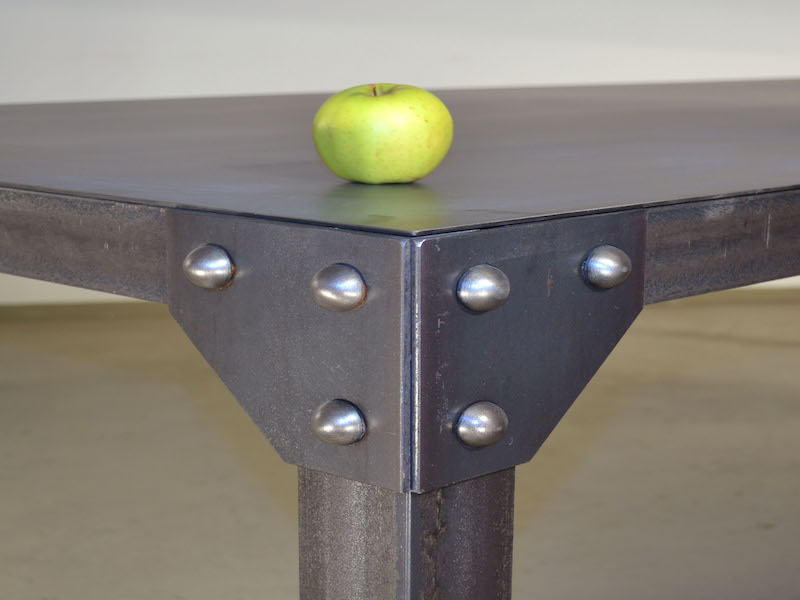rivet: (451, 260, 515, 316), (450, 395, 512, 451), (307, 262, 370, 317), (309, 395, 370, 449), (178, 240, 238, 294), (575, 242, 636, 291)
